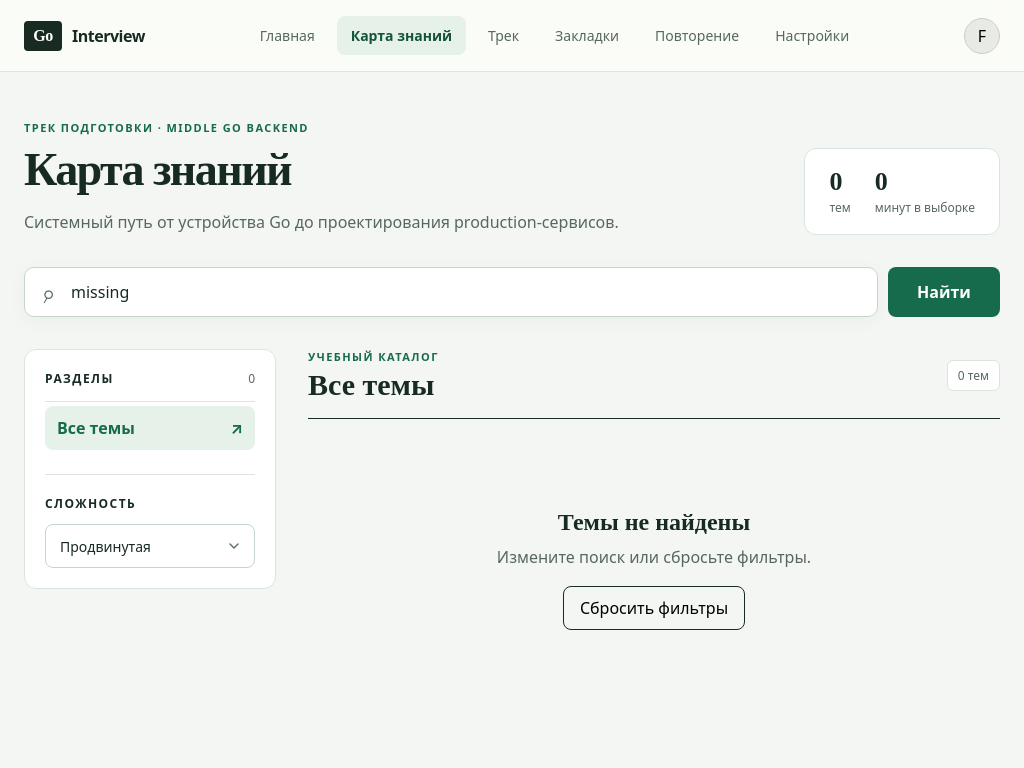
Test: resets all catalog URL filters from an empty result
The image size is (1024, 768).
Step 1. Click the button "Сбросить фильтры" → (654, 608), box [563, 586, 745, 630]
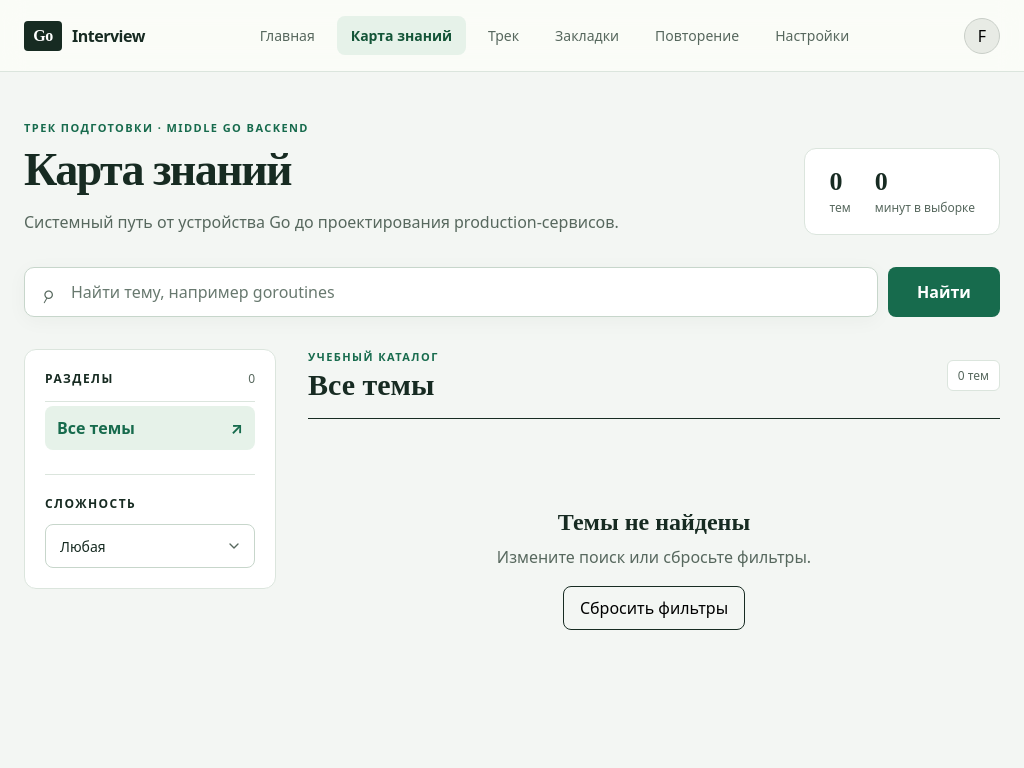
Expected: the field with placeholder "Найти тему, например goroutines" is empty, [69, 280, 861, 304]
